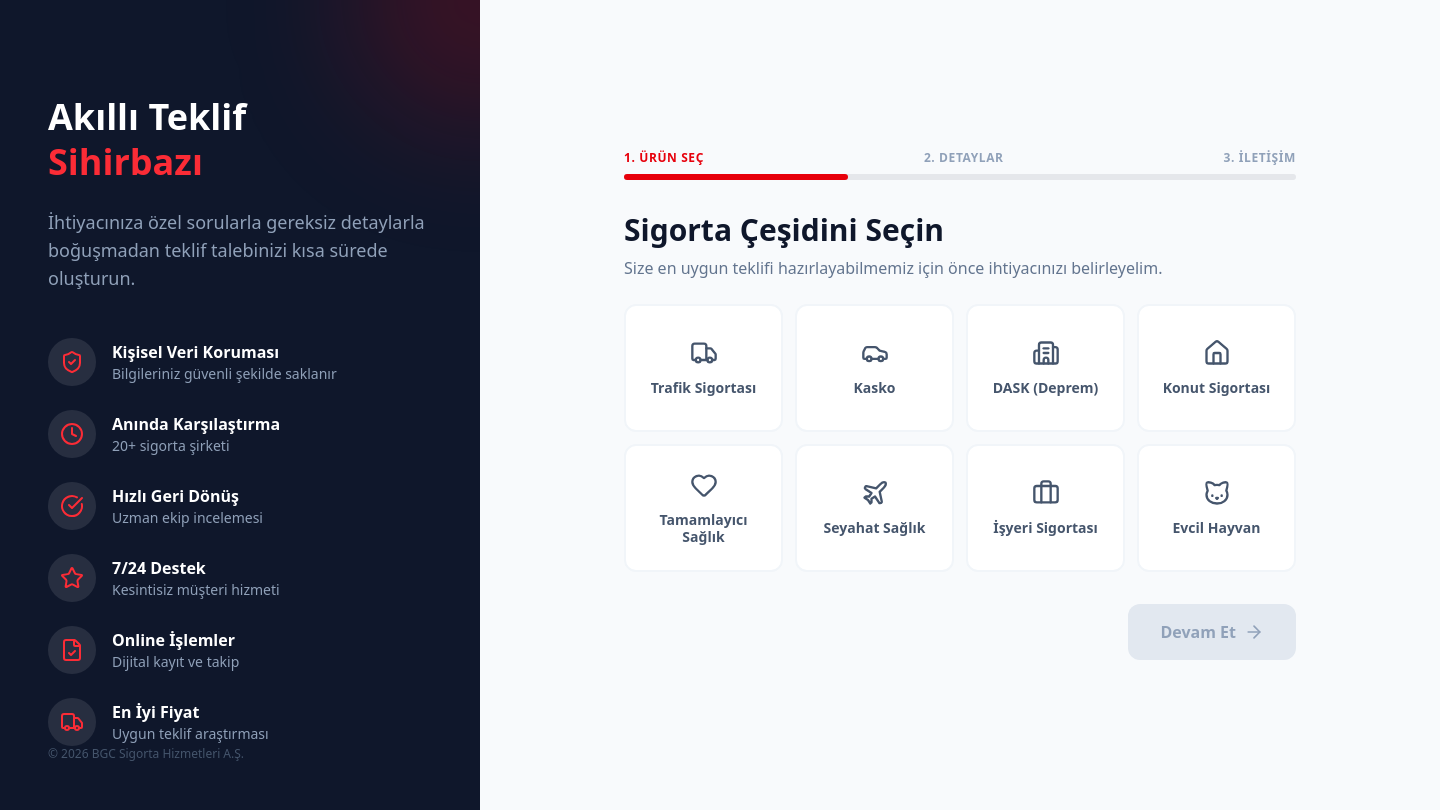
TeklifAlPage › requires home fields before moving to contact step
Click the button "Konut Sigortası".
click(1216, 368)  # box [1137,304,1296,432]
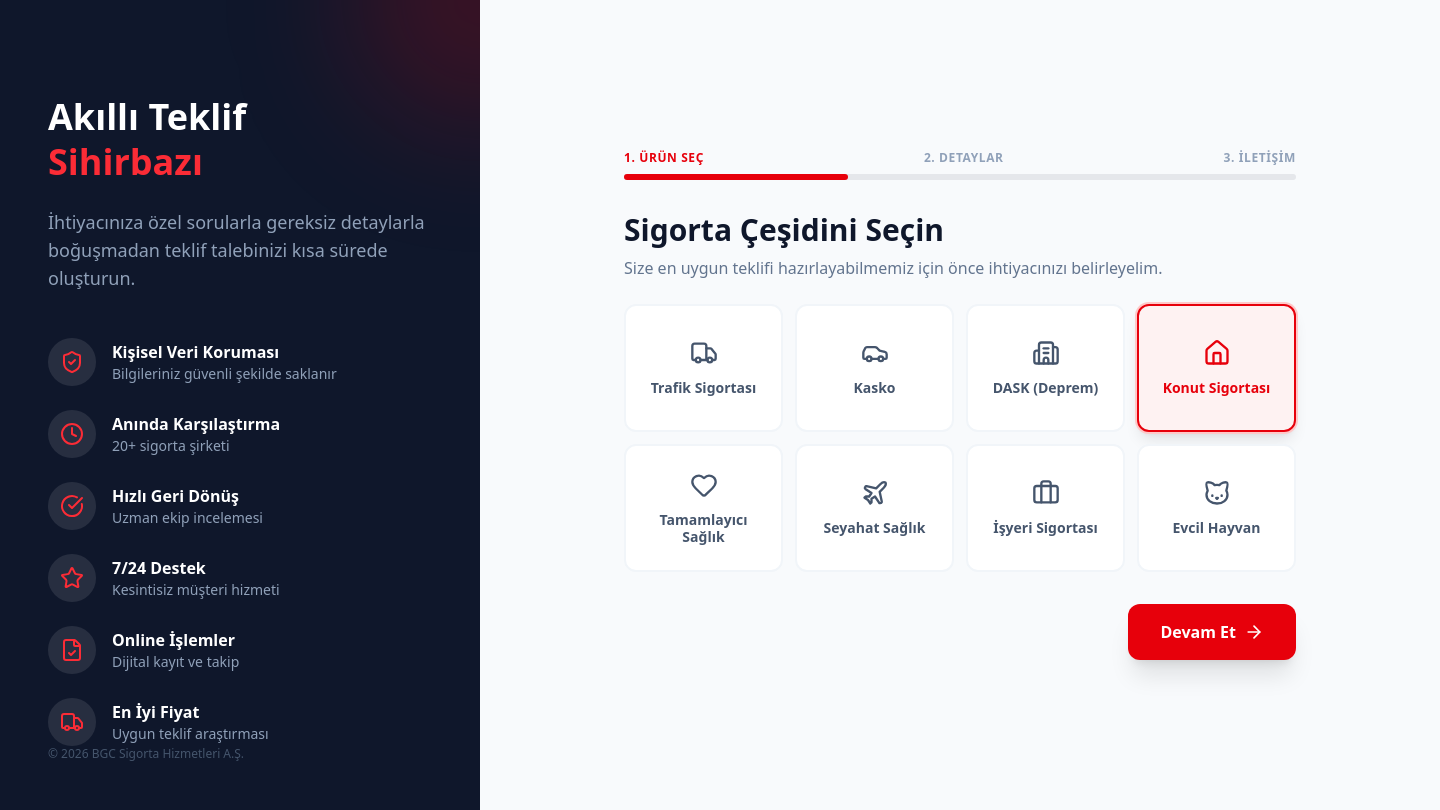
Click the button "Devam Et".
click(1212, 632)  # box [1128,604,1296,660]
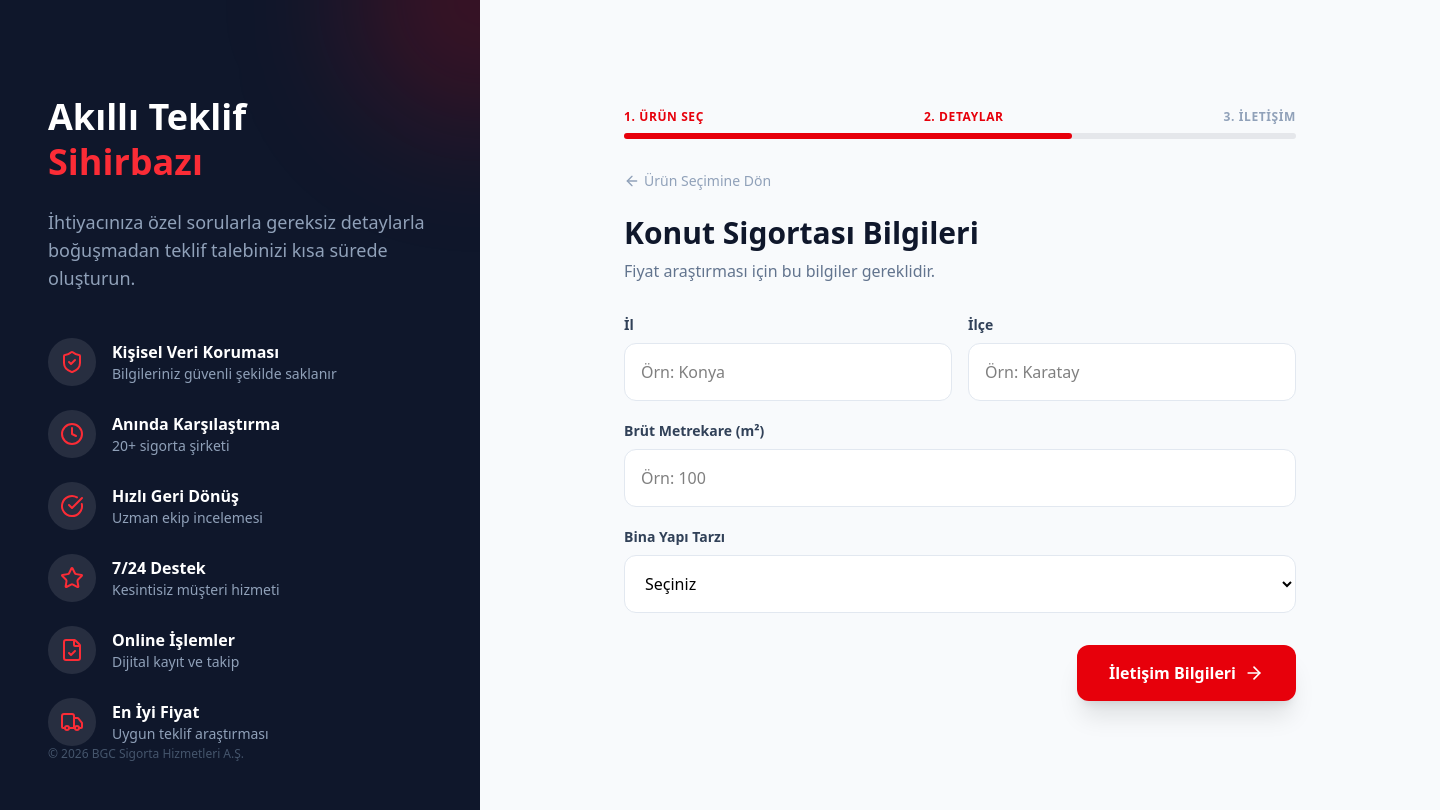
Result: the heading "Konut Sigortası Bilgileri" is shown at [624,212,979,253]
Click the button "İletişim Bilgileri".
click(1186, 673)  # box [1077,645,1296,701]
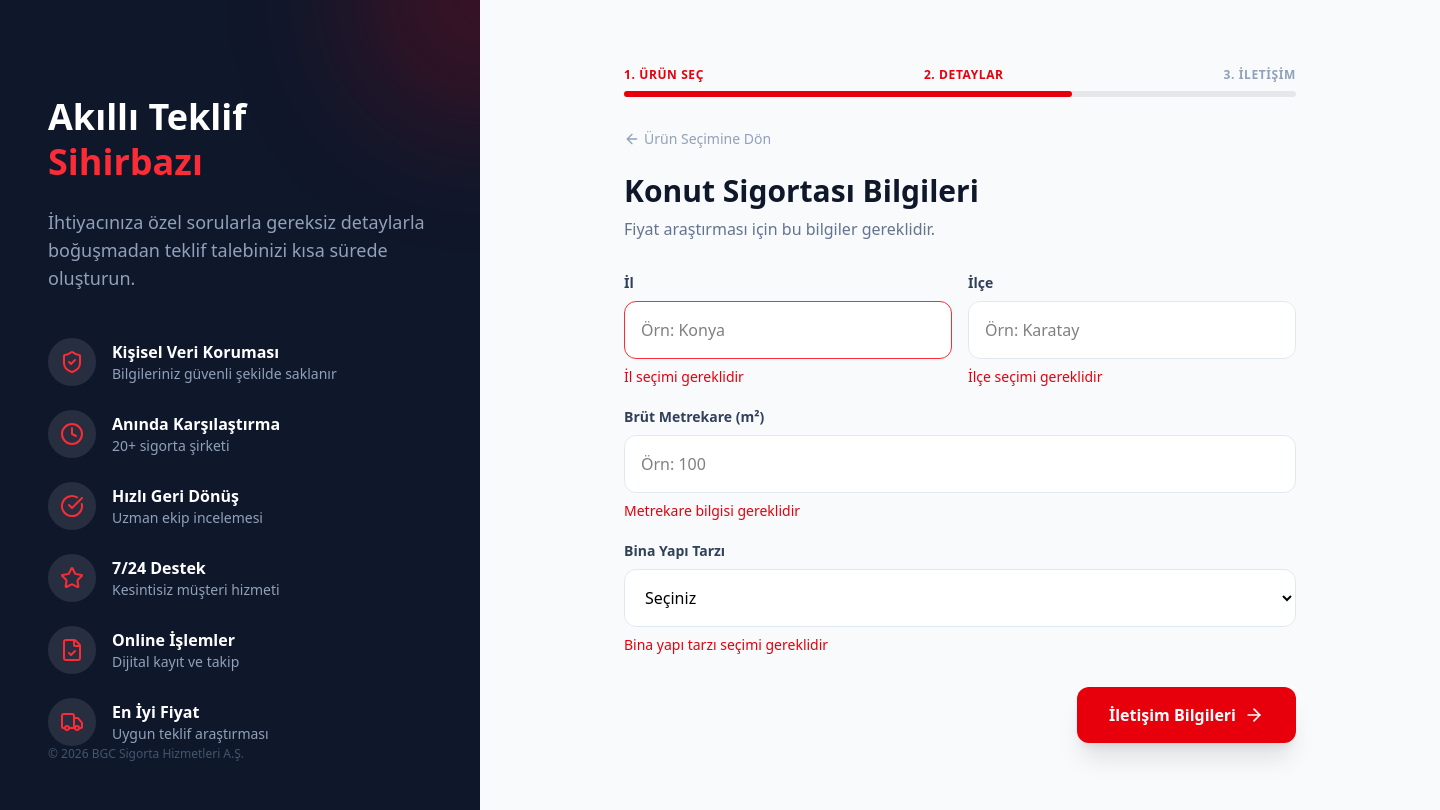
Result: the text "İl seçimi gereklidir" is shown at [624,367,744,386]
Result: the text "İlçe seçimi gereklidir" is shown at [968,367,1102,386]
Result: the text "Metrekare bilgisi gereklidir" is shown at [624,501,800,520]
